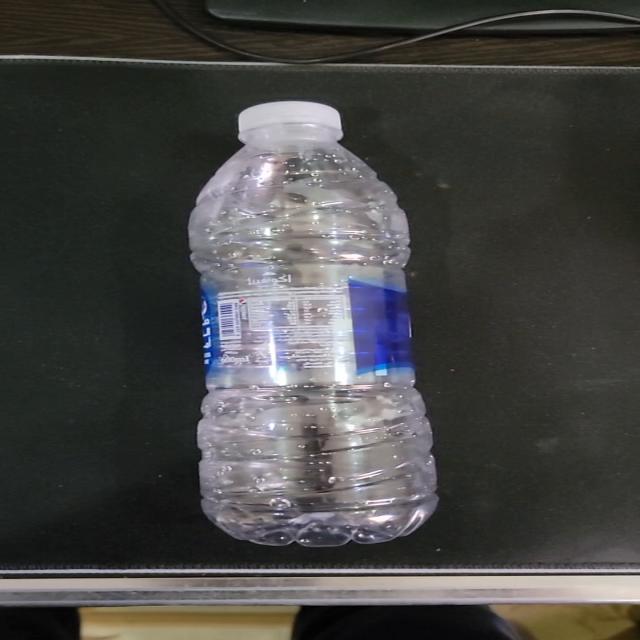Anorganik: (175, 98, 449, 550)
